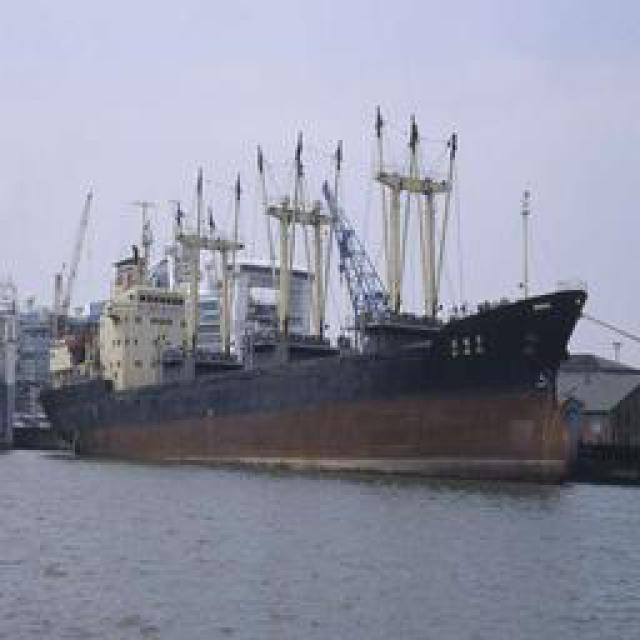Ship: (31, 120, 599, 468)
